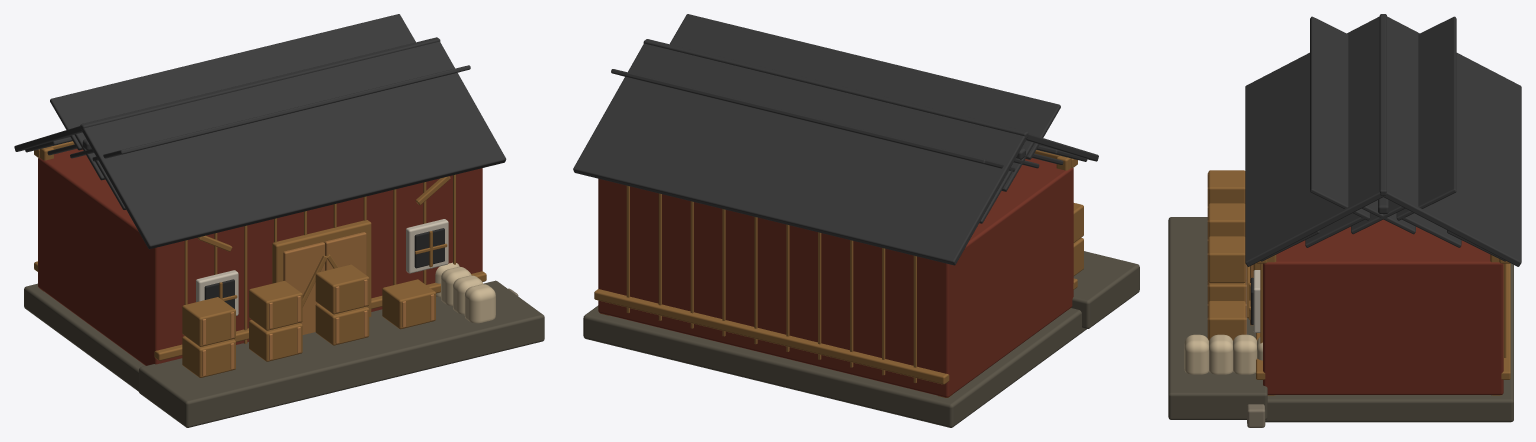
Rendered from shipping-office.glb.
The picture shows the model from 3 angles, left to right: view 1: azimuth 30°, elevation 25°; view 2: azimuth 150°, elevation 25°; view 3: azimuth 270°, elevation 25°; orthographic projection. The views are drawn at different scales.
Visible parts, largest first — view 1: shipping-office-farm-roof-slate, shipping-office-farm-barn-red-dark, shipping-office-farm-stone-dark, shipping-office-farm-wood-dark, shipping-office-farm-wood, shipping-office-farm-cloth, shipping-office-farm-trim, shipping-office-farm-wood-light, shipping-office-farm-window; view 2: shipping-office-farm-roof-slate, shipping-office-farm-barn-red-dark, shipping-office-farm-stone-dark, shipping-office-farm-wood-dark; view 3: shipping-office-farm-roof-slate, shipping-office-farm-barn-red-dark, shipping-office-farm-stone-dark, shipping-office-farm-wood-dark, shipping-office-farm-cloth, shipping-office-farm-trim, shipping-office-farm-wood-light, shipping-office-farm-stone.
Boxes of the visible parts, left/top/right/bottom form: shipping-office-farm-roof-slate: left=14, top=14, right=506, bottom=249; shipping-office-farm-barn-red-dark: left=38, top=149, right=482, bottom=365; shipping-office-farm-stone-dark: left=24, top=280, right=544, bottom=427; shipping-office-farm-wood-dark: left=34, top=141, right=486, bottom=377; shipping-office-farm-wood: left=283, top=232, right=366, bottom=334; shipping-office-farm-cloth: left=435, top=262, right=495, bottom=323; shipping-office-farm-trim: left=196, top=219, right=448, bottom=315; shipping-office-farm-wood-light: left=202, top=279, right=434, bottom=376; shipping-office-farm-window: left=204, top=228, right=444, bottom=308; shipping-office-farm-roof-slate: left=573, top=14, right=1098, bottom=265; shipping-office-farm-barn-red-dark: left=598, top=158, right=1073, bottom=397; shipping-office-farm-stone-dark: left=583, top=251, right=1139, bottom=427; shipping-office-farm-wood-dark: left=594, top=150, right=1083, bottom=397; shipping-office-farm-roof-slate: left=1245, top=14, right=1521, bottom=266; shipping-office-farm-barn-red-dark: left=1263, top=219, right=1503, bottom=394; shipping-office-farm-stone-dark: left=1168, top=217, right=1513, bottom=422; shipping-office-farm-wood-dark: left=1208, top=170, right=1510, bottom=395; shipping-office-farm-cloth: left=1184, top=334, right=1262, bottom=374; shipping-office-farm-trim: left=1253, top=270, right=1260, bottom=332; shipping-office-farm-wood-light: left=1207, top=173, right=1246, bottom=338; shipping-office-farm-stone: left=1247, top=404, right=1265, bottom=427.
Bounding box in the file's own units: 7.24 × 4.33 × 5.87.
